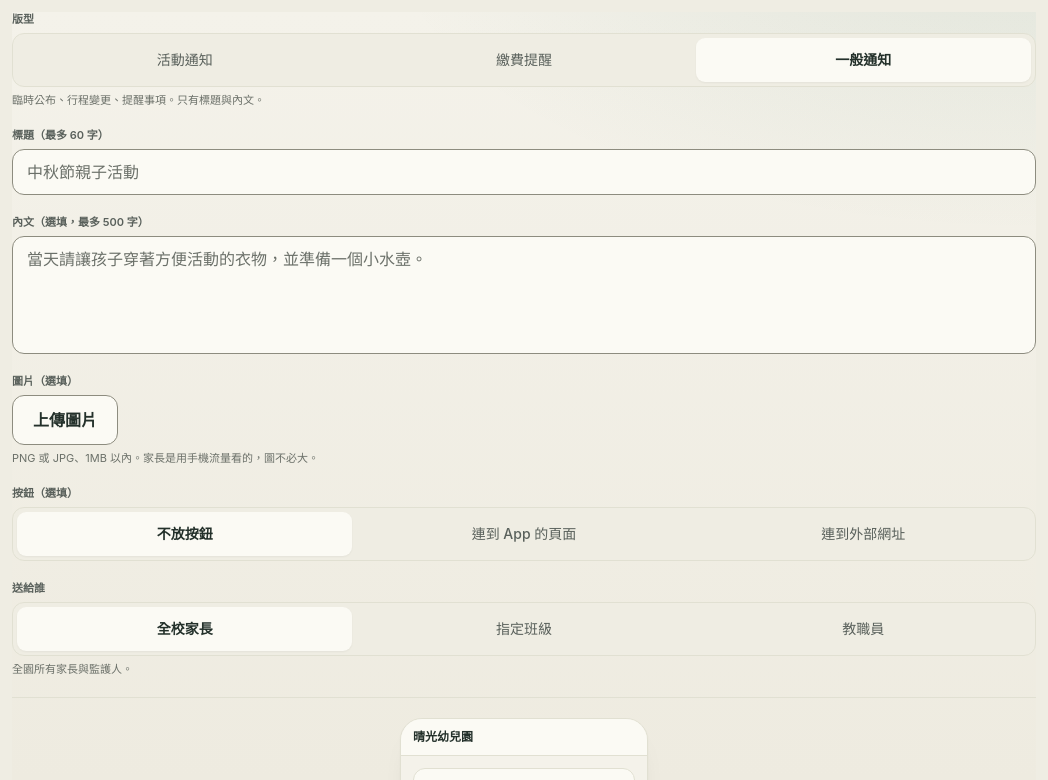
Test: MessageComposer › 繳費提醒版型：欄位標明是顯示用文字（系統不記帳）
Click the radio button labelled "繳費提醒".
click(524, 60)  # box x1=356 y1=38 x2=692 y2=82
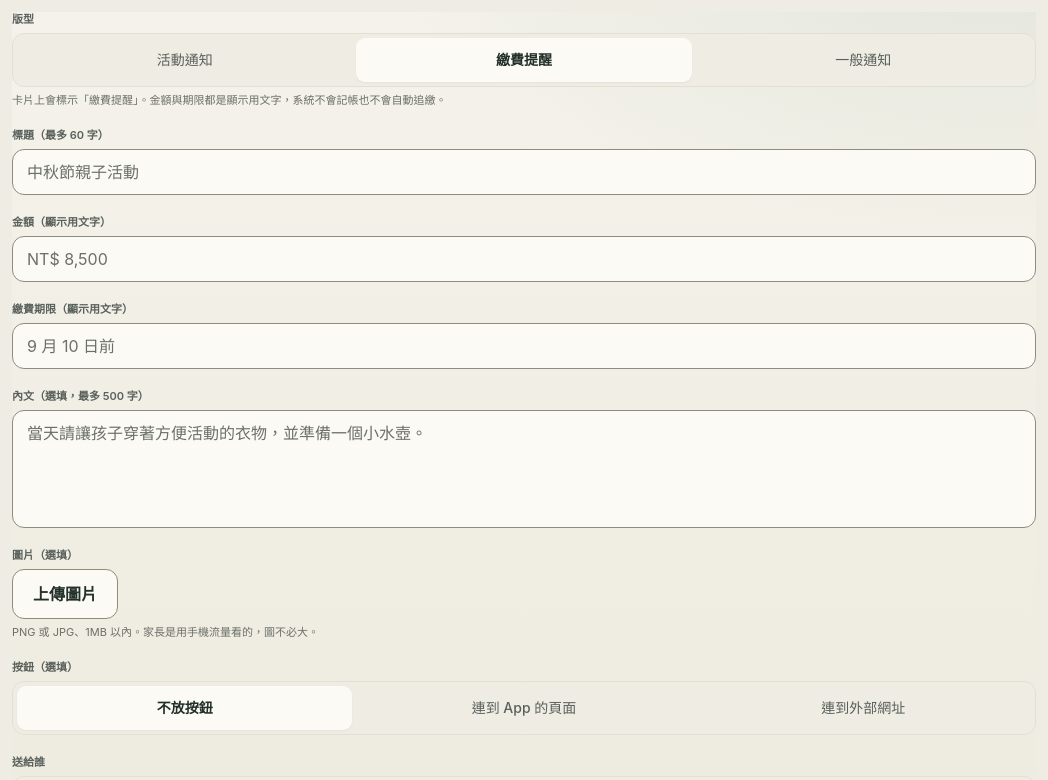
Expected: the field labelled "金額（顯示用文字）" is shown, x1=12 y1=236 x2=1036 y2=282
Expected: the text "卡片上會標示「繳費提醒」。金額與期限都是顯示用文字，系統不會記帳也不會自動追繳。" is shown, x1=12 y1=93 x2=446 y2=107
